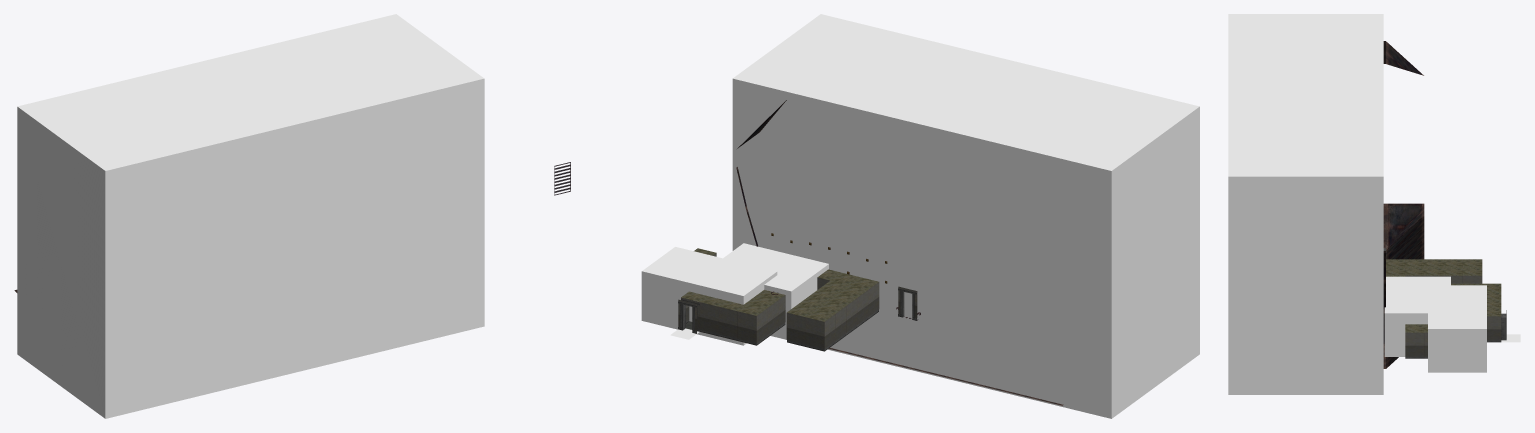
The model's file is monstro-PMFHB4UK.gltf.
3 renders of one model, left to right at view 1: azimuth 30°, elevation 25°; view 2: azimuth 150°, elevation 25°; view 3: azimuth 270°, elevation 25°, orthographic. The views are drawn at different scales.
Parts seen in each view (by area): view 1: catwalk; view 2: catwalk, vent, walls, ceiling, terminal; view 3: catwalk, vent, terminal, maint hall floor, ceiling, walls, maint hall far wall.
Boxes of the visible parts, x1,y1,x2,y2 form: catwalk: (17,14,484,418); catwalk: (732,14,1199,418); vent: (641,247,777,345); walls: (678,253,879,351); ceiling: (681,248,878,321); terminal: (723,243,828,339); catwalk: (1228,14,1383,394); vent: (1428,285,1486,372); terminal: (1384,276,1450,356); maint hall floor: (1383,203,1424,368); ceiling: (1386,259,1501,332); walls: (1405,275,1506,358); maint hall far wall: (1383,41,1423,75).
Size of the model in its own units: 28.12 by 12.5 by 15.19.
3 materials, 1 textured.
